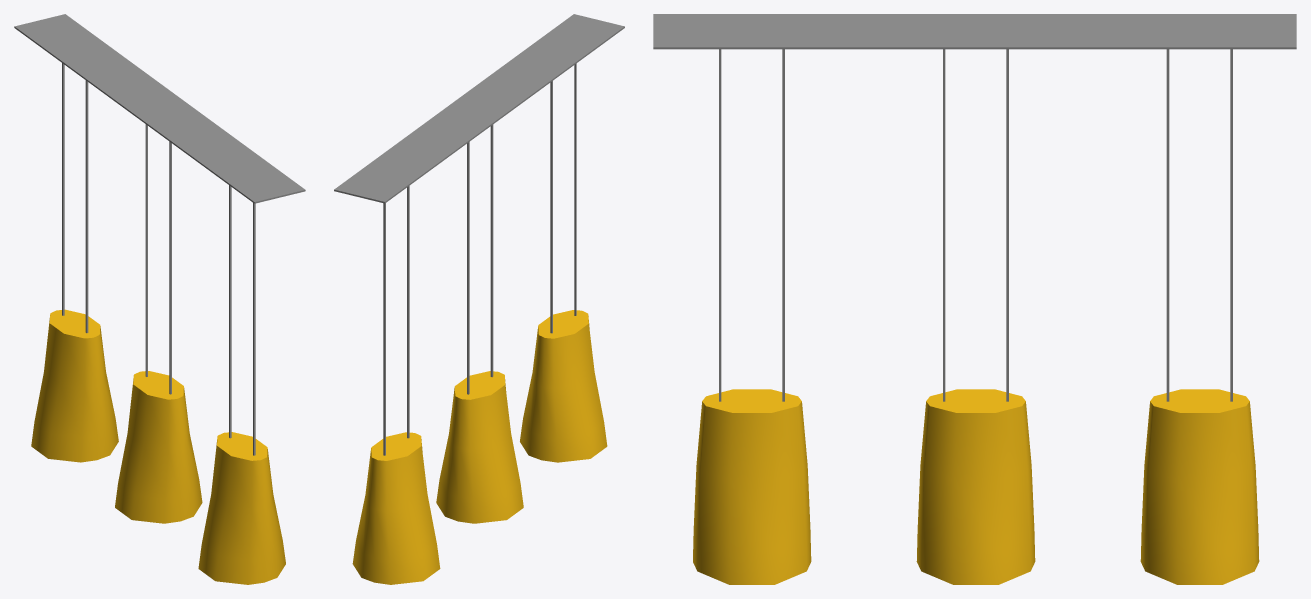
File: int_light.FBX
3 renders of one model, left to right at view 1: azimuth 30°, elevation 25°; view 2: azimuth 150°, elevation 25°; view 3: azimuth 270°, elevation 25°, orthographic. The views are drawn at different scales.
Visible parts, largest first — view 1: int_light; view 2: int_light; view 3: int_light.
Boxes of the visible parts, left/top/right/bottom form: int_light: left=14, top=14, right=305, bottom=584; int_light: left=334, top=14, right=624, bottom=584; int_light: left=653, top=14, right=1296, bottom=584.
Bounding box in the file's own units: 5.47 × 29.36 × 32.17.
